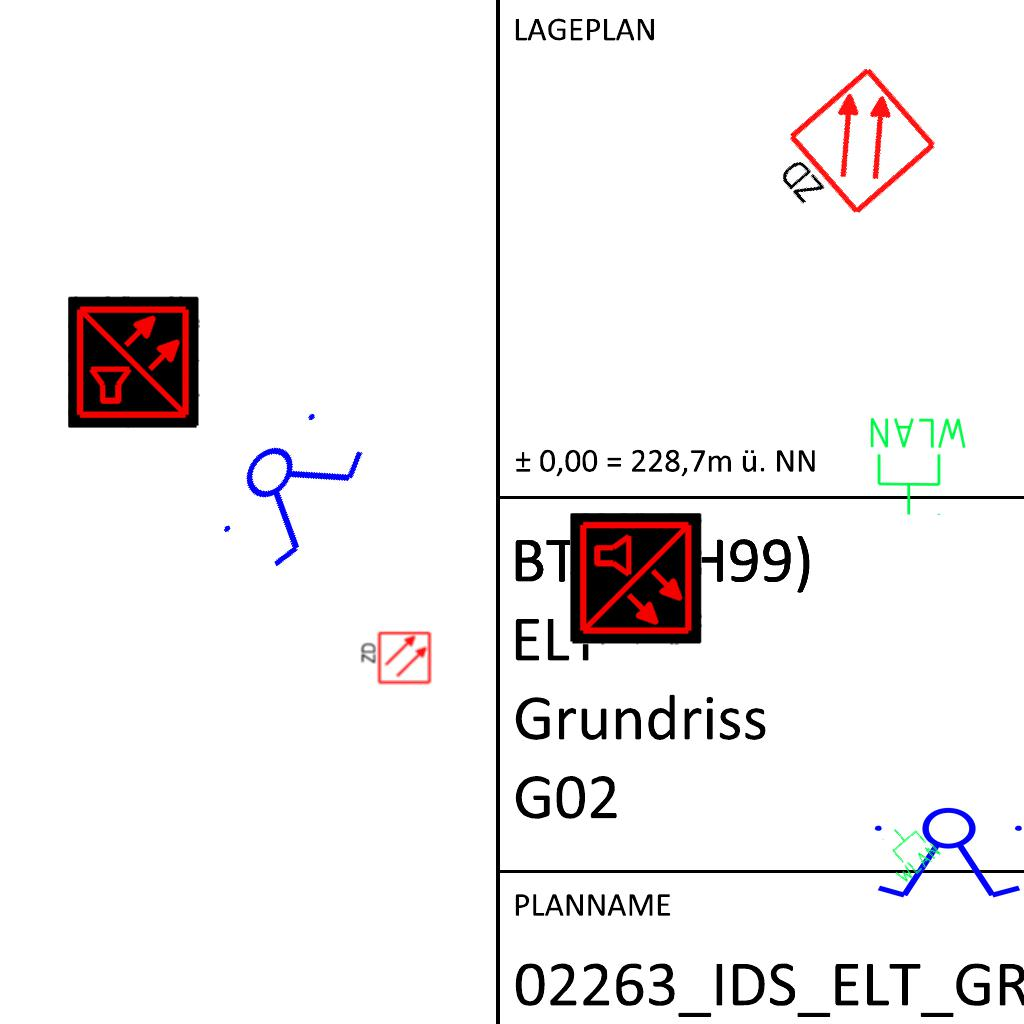OKW_Multisensormelder_(Kombination_optischer_Rauch-Kahlenmonoxid_Waerme-Melder): (68, 296, 200, 428), (570, 513, 702, 645)
Serienschalter: (202, 391, 380, 583), (866, 806, 1024, 902)
WLAN: (866, 414, 971, 518), (870, 814, 944, 888)
ZD_Melder_in_Zwischendecke_mit_Revisionsoeffnung_mind_40_x_40_cm: (755, 62, 943, 247), (358, 630, 432, 687)
